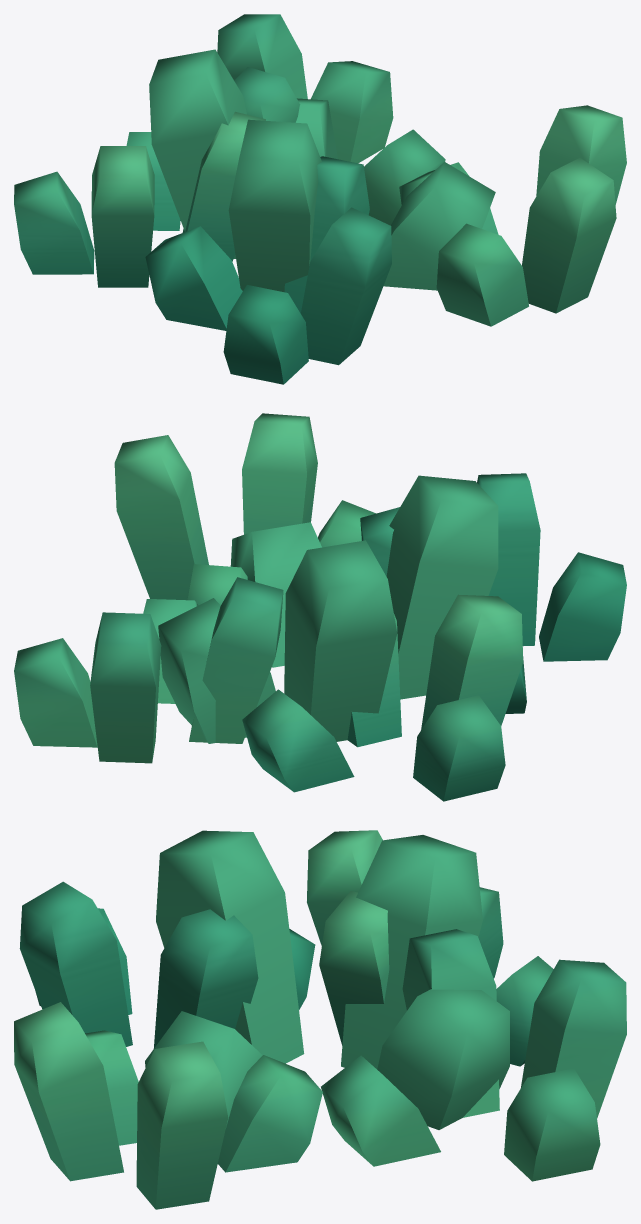
The model's file is kenney-pirate-grass-patch.glb.
3 views of the same model, one above another, from view 1: azimuth 30°, elevation 25°; view 2: azimuth 150°, elevation 25°; view 3: azimuth 270°, elevation 25° (orthographic). The views are drawn at different scales.
Parts seen in each view (by area): view 1: grass-patch; view 2: grass-patch; view 3: grass-patch.
Part boxes in pixels (<box>): grass-patch: <box>14,14,626,384</box>; grass-patch: <box>14,413,626,801</box>; grass-patch: <box>14,830,626,1209</box>.
Size of the model in its own units: 1.31 by 0.4709 by 1.27.
1 material, 1 textured.
